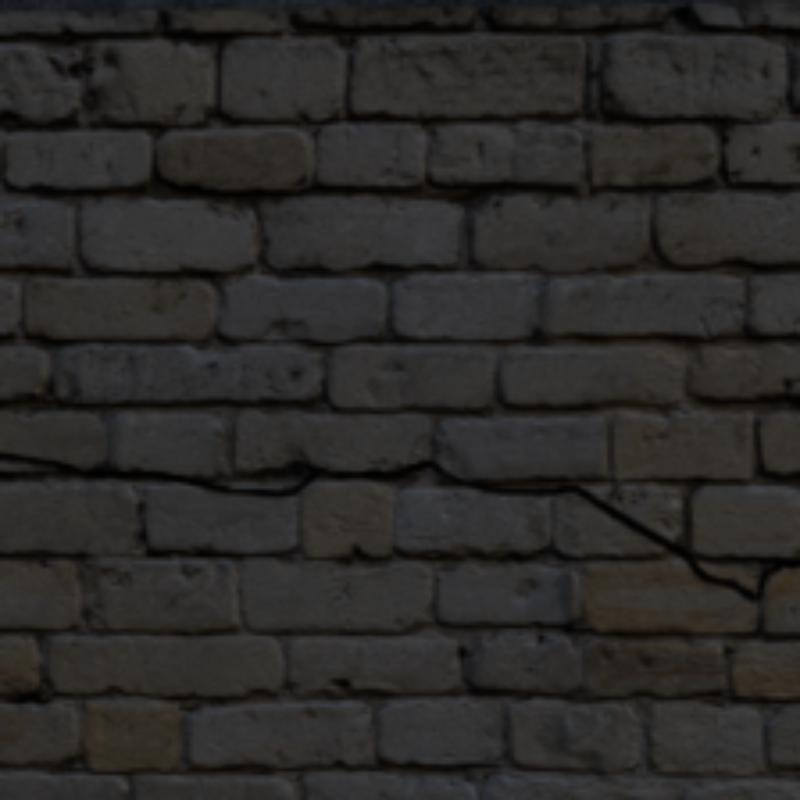crack: (0, 454, 796, 596)
